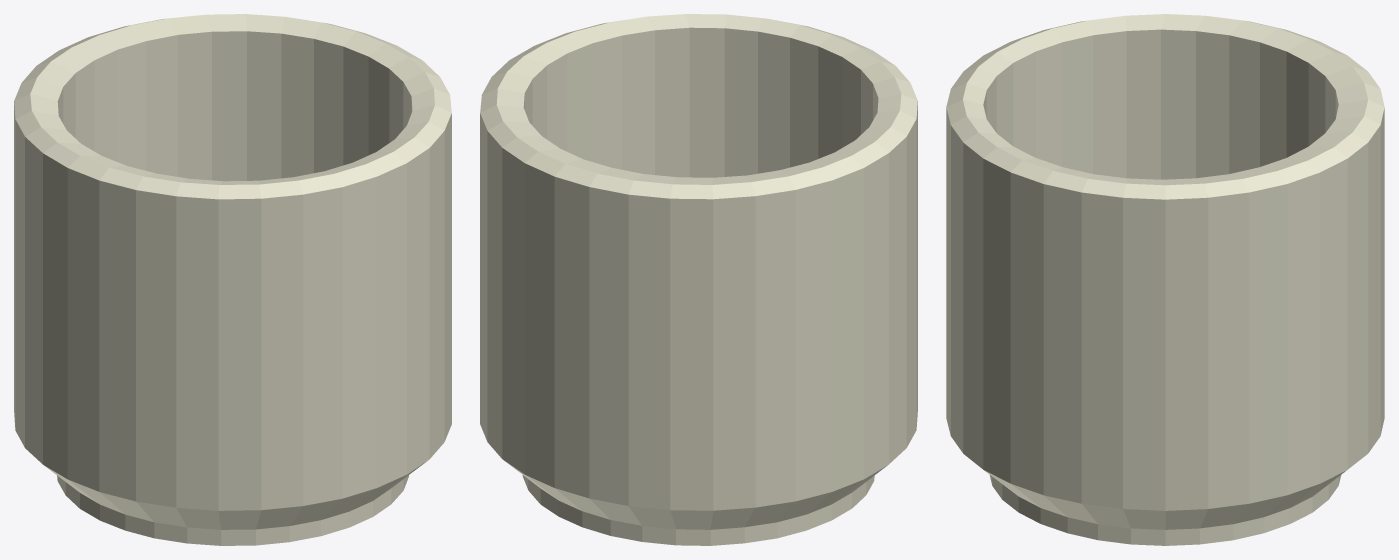
The model's file is Cup_Simple.glb.
3 renders of one model, left to right at view 1: azimuth 30°, elevation 25°; view 2: azimuth 150°, elevation 25°; view 3: azimuth 270°, elevation 25°, orthographic.
Parts seen in each view (by area): view 1: cup_simple.001; view 2: cup_simple.001; view 3: cup_simple.001.
Part boxes in pixels (x1,y1,x2,y2): cup_simple.001: [14, 14, 451, 545]; cup_simple.001: [480, 14, 917, 545]; cup_simple.001: [946, 14, 1384, 545].
Size of the model in its own units: 0.1496 by 0.14 by 0.1496.
